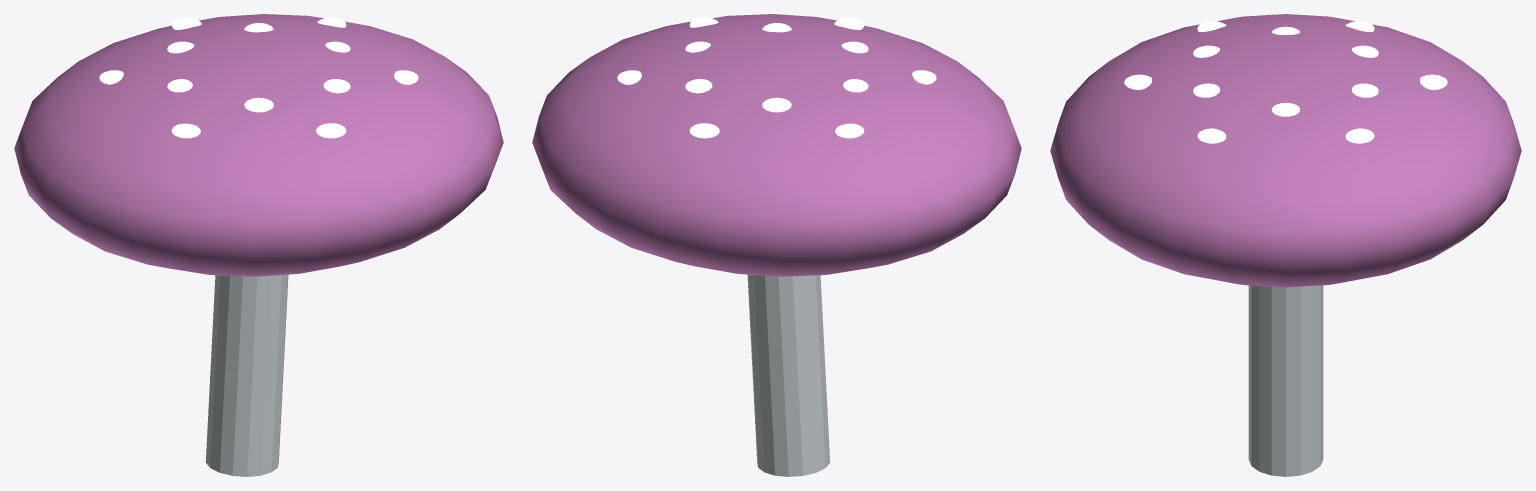
File: mushroom.glb
3 renders of one model, left to right at view 1: azimuth 30°, elevation 25°; view 2: azimuth 150°, elevation 25°; view 3: azimuth 270°, elevation 25°, orthographic.
Visible parts, largest first — view 1: Mushroom crown, Mushroom stalk; view 2: Mushroom crown, Mushroom stalk; view 3: Mushroom crown, Mushroom stalk.
Part boxes in pixels (x1,y1,x2,y2): Mushroom crown: [14, 14, 503, 276]; Mushroom stalk: [205, 274, 288, 476]; Mushroom crown: [532, 14, 1021, 276]; Mushroom stalk: [747, 274, 830, 476]; Mushroom crown: [1050, 14, 1521, 287]; Mushroom stalk: [1248, 285, 1323, 476].
Bounding box in the file's own units: 3.1 × 2.75 × 2.9.
